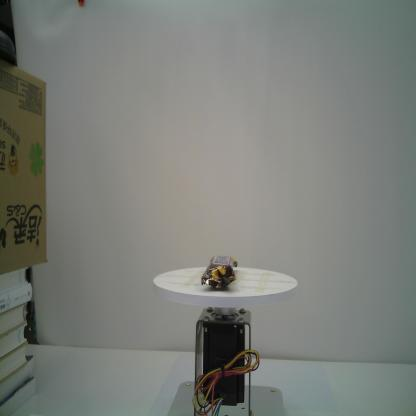Chocolate: (201, 255, 238, 289)
